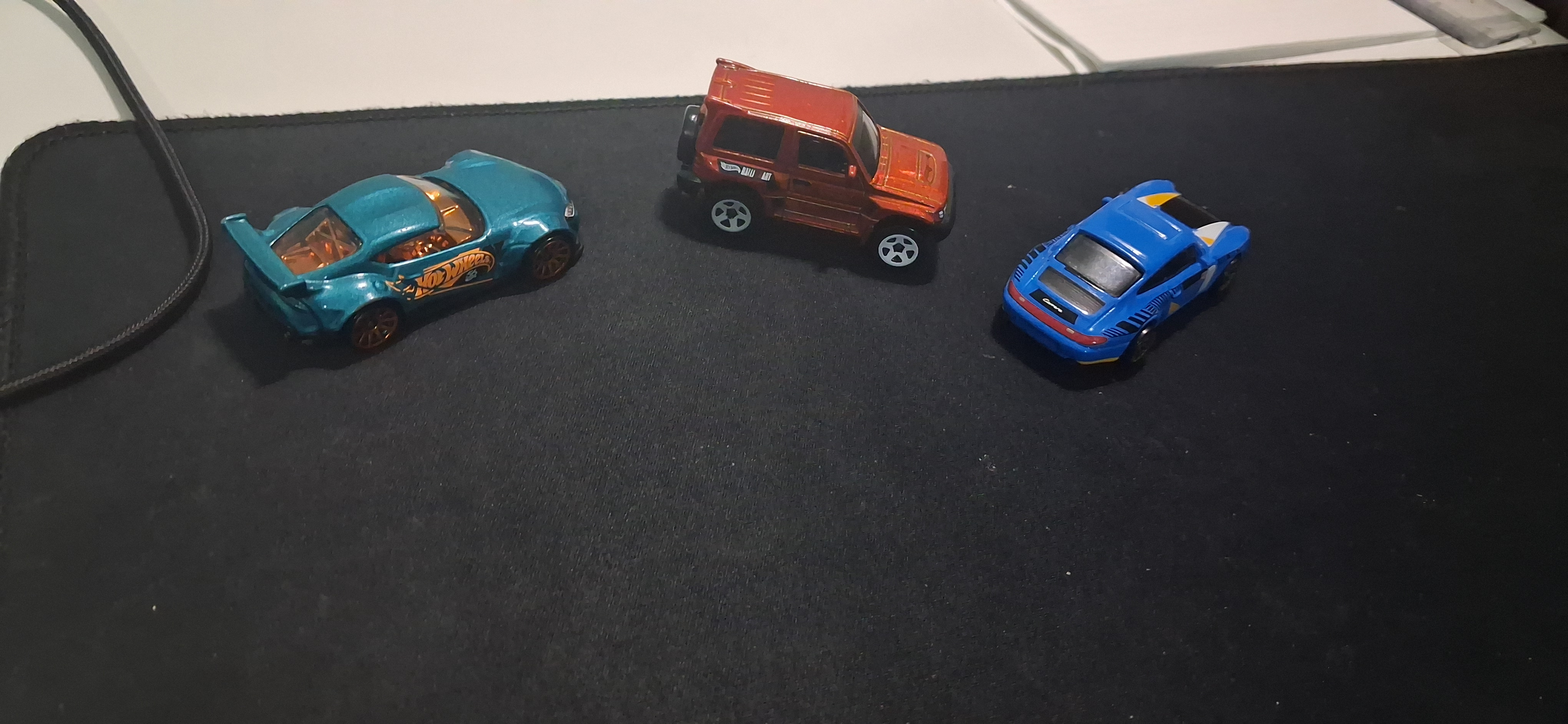Mitsubishi_Pajero_Evolution: (639, 72, 967, 298)
Porsche_Carrera: (967, 135, 1291, 411)
Toyota_GR_Supra: (197, 107, 580, 388)
